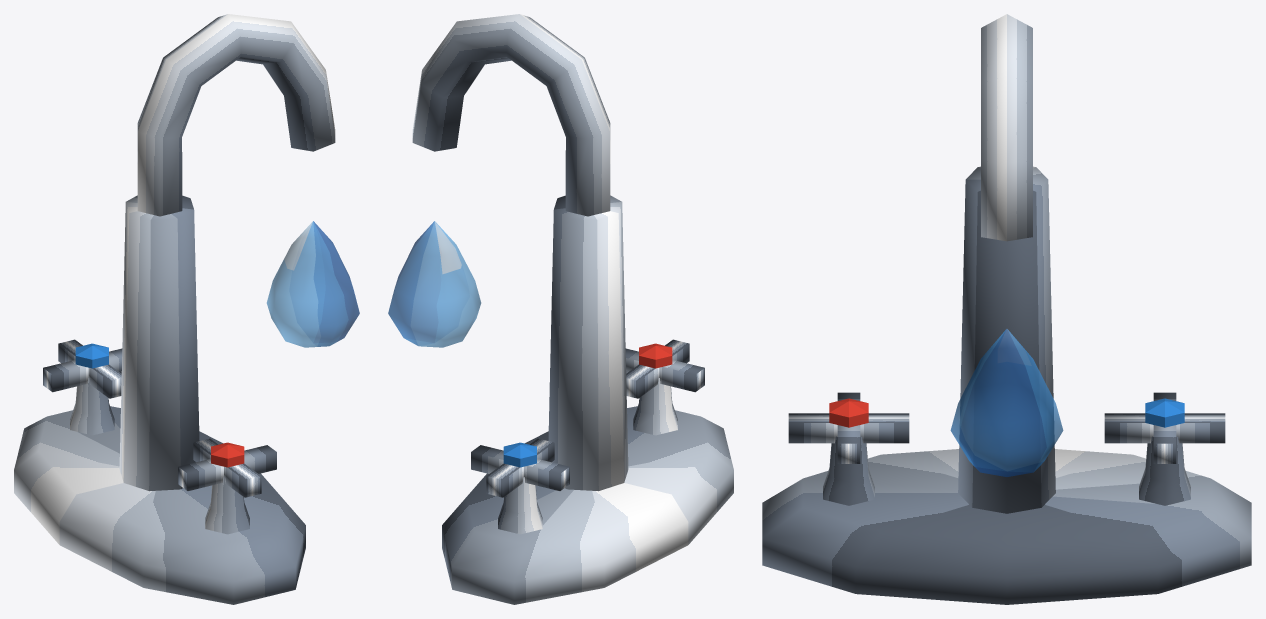
The model's file is around-waterTap.glb.
3 renders of one model, left to right at view 1: azimuth 30°, elevation 25°; view 2: azimuth 150°, elevation 25°; view 3: azimuth 270°, elevation 25°, orthographic. The views are drawn at different scales.
Visible parts, largest first — view 1: around.waterTap; view 2: around.waterTap; view 3: around.waterTap.
Part boxes in pixels (<box>): around.waterTap: <box>14,14,359,604</box>; around.waterTap: <box>388,14,733,604</box>; around.waterTap: <box>762,14,1251,604</box>.
Bounding box in the file's own units: 0.9645 × 1.53 × 1.18.
4 materials, 2 textured.
